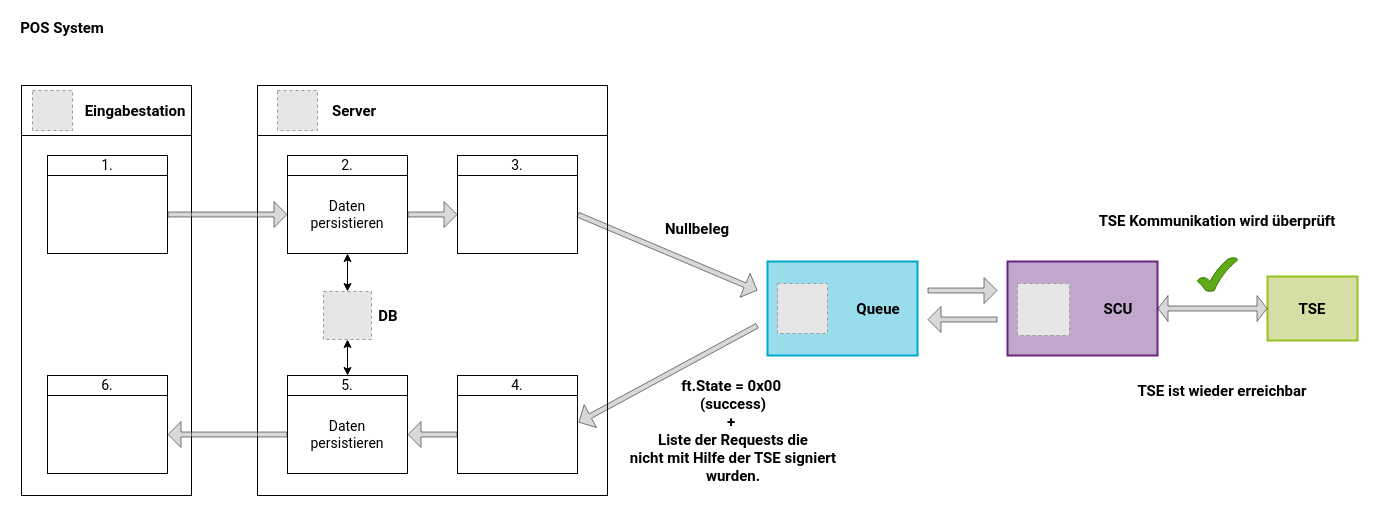
The diagram is 1375 pixels wide and 513 high, and some of its shapes have lost their labels. Grey dashed boxes stand in for pictures. The shapes that lost their labels are listed below. From the top down, each one's centre as x and y in pixels, then its label:
the point at 107,214: Funktionalität triggern (check TSE)
the point at 517,214: sign - Request senden (Nullbeleg)
the point at 107,434: Beleg erstellen und drucken
the point at 517,434: Response prozessieren
